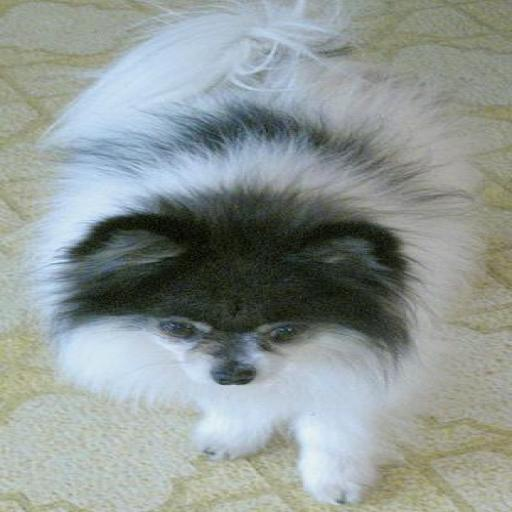dog_face: (58, 226, 414, 396)
